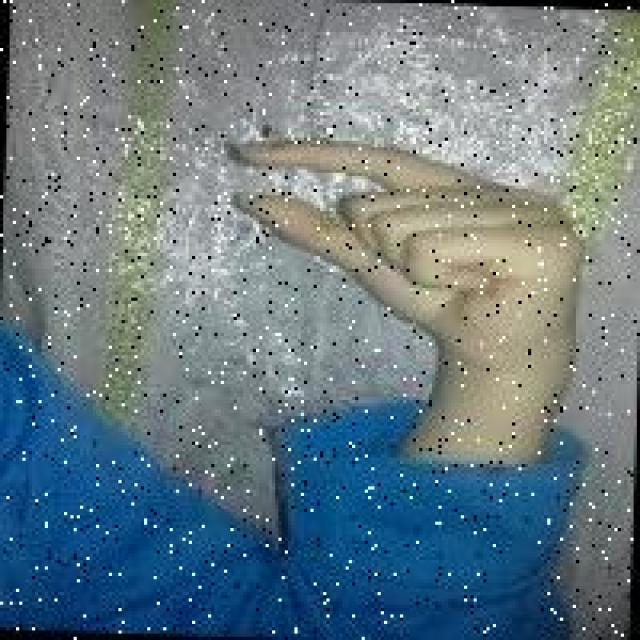G: (218, 133, 592, 363)
